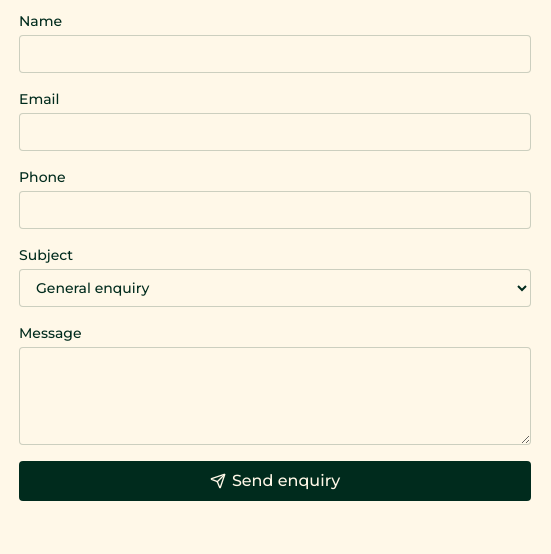
EnquiryForm › shows an error message when the insert fails
The image size is (551, 554).
Type "Jane Doe" into the field labelled "Name" at (275, 54), box x1=19 y1=35 x2=531 y2=73
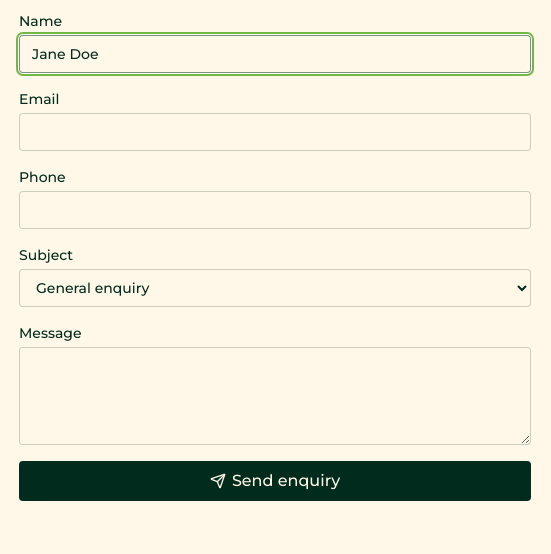
Type "jane@example.com" into the field labelled "Email" at (275, 132), box x1=19 y1=113 x2=531 y2=151
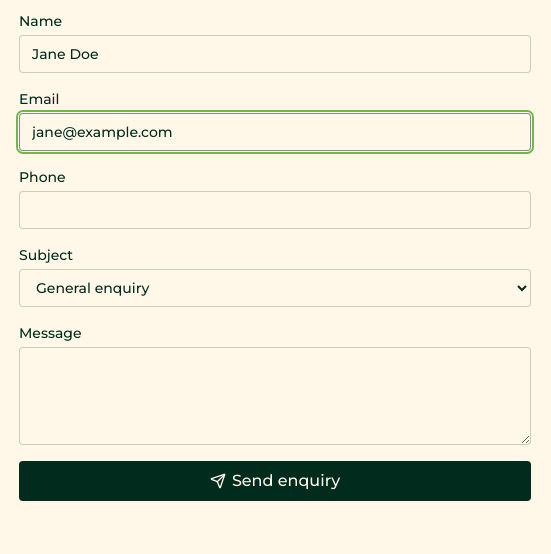
Type "9999999999" into the field labelled "Phone" at (275, 210), box x1=19 y1=191 x2=531 y2=229
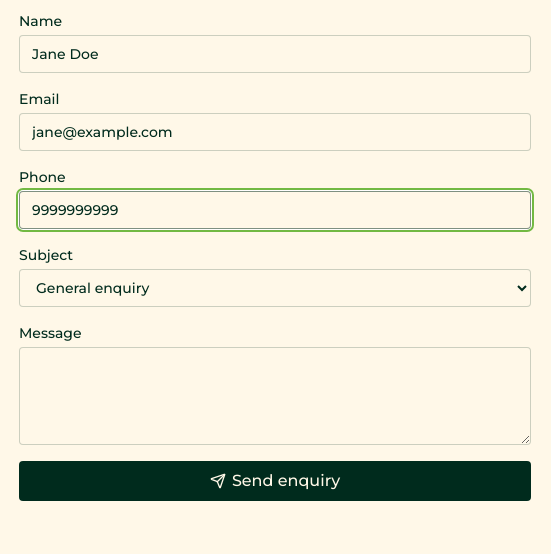
Type "Interested in your products." into the text box labelled "Message" at (275, 396), box x1=19 y1=347 x2=531 y2=445
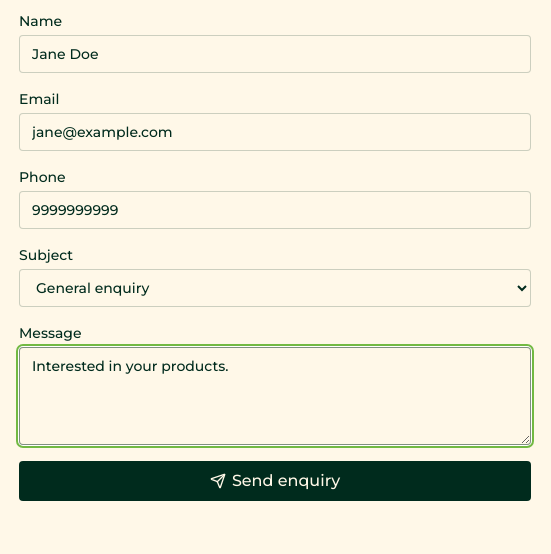
Click the button "Send enquiry" at (275, 481), box x1=19 y1=461 x2=531 y2=501
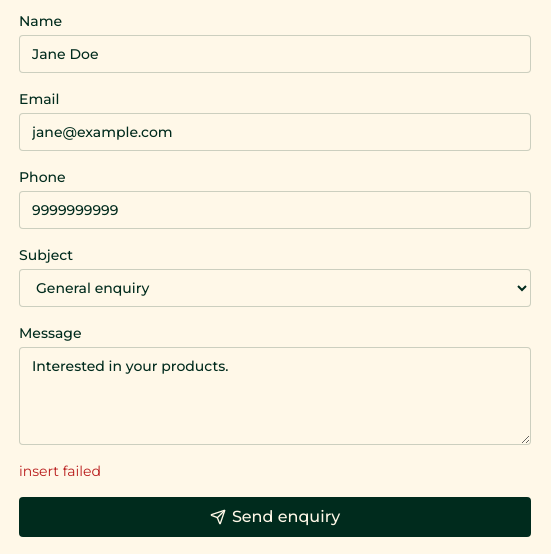
Now the message reads "insert failed", box x1=19 y1=462 x2=101 y2=480
